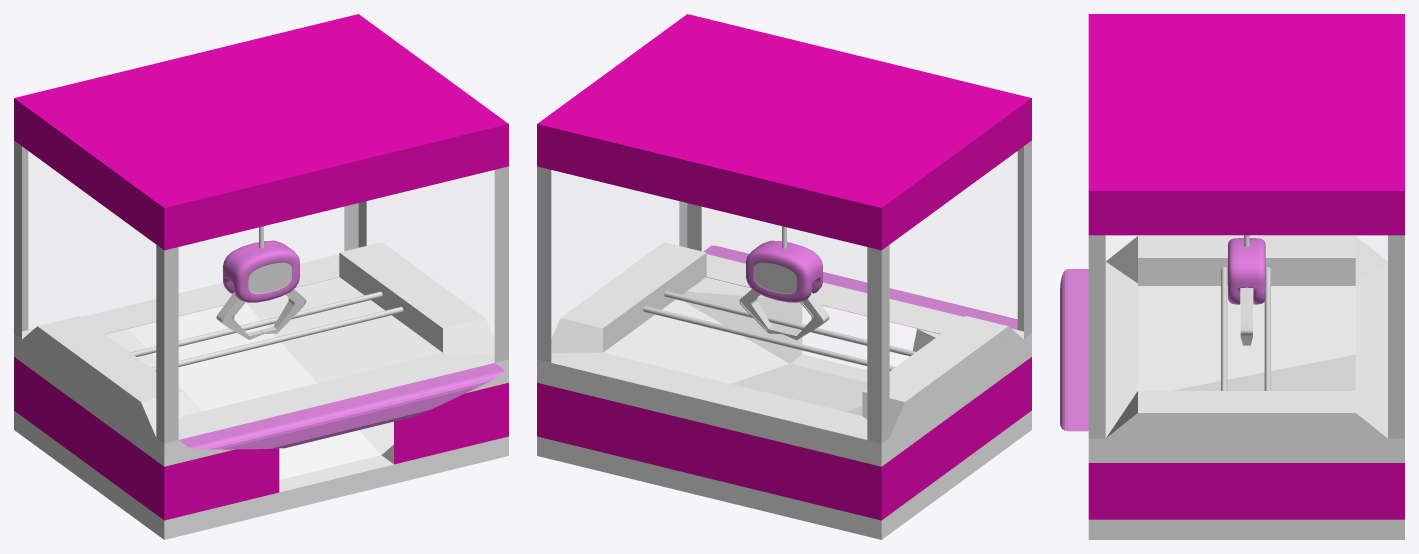
File: CraneGame7.fbx
3 views of the same model, side by side, from view 1: azimuth 30°, elevation 25°; view 2: azimuth 150°, elevation 25°; view 3: azimuth 270°, elevation 25° (orthographic). The views are drawn at different scales.
Parts seen in each view (by area): view 1: GameBox, ClaneBody, Bridge, Bridge.001, Claw.001, Claw; view 2: GameBox, ClaneBody, Bridge.001, Bridge, Claw.001, Claw; view 3: GameBox, ClaneBody, Bridge, Bridge.001, Claw.
Boxes of the visible parts, x1,y1,x2,y2 form: GameBox: [14, 14, 508, 539]; ClaneBody: [223, 240, 299, 302]; Bridge: [151, 306, 403, 371]; Bridge.001: [130, 291, 382, 356]; Claw.001: [216, 292, 263, 340]; Claw: [260, 289, 306, 334]; GameBox: [537, 14, 1031, 539]; ClaneBody: [746, 240, 822, 302]; Bridge.001: [643, 306, 895, 371]; Bridge: [664, 291, 915, 356]; Claw.001: [782, 292, 829, 340]; Claw: [739, 289, 785, 334]; GameBox: [1060, 14, 1404, 539]; ClaneBody: [1228, 238, 1265, 304]; Bridge: [1221, 267, 1227, 390]; Bridge.001: [1264, 267, 1270, 390]; Claw: [1240, 287, 1252, 345].
Bounding box in the file's own units: 1424 × 1310 × 1174.
